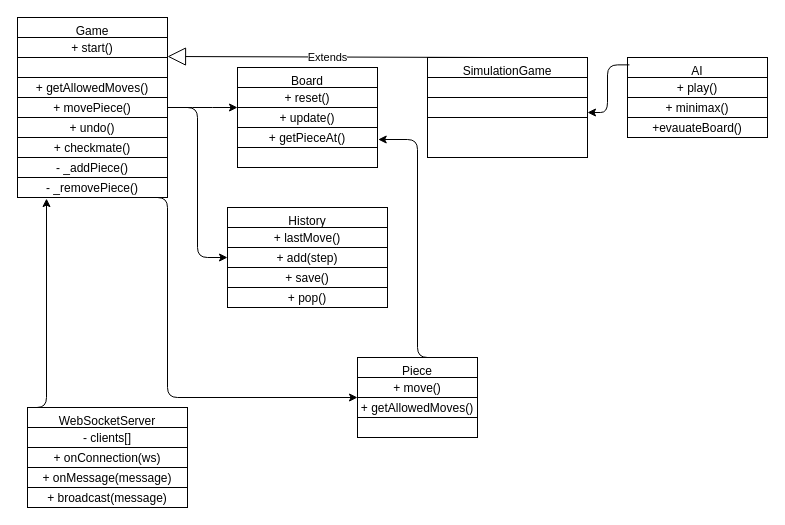
Some shapes in this 785 by 525 pixel diagram are drawn without their labels. Here are the shapes that lost their labels. From the top down, the centre of each, then its label:
the point at 92,67: + king_checked()
the point at 507,87: + simulateMove()
the point at 507,107: + undoSimulateMove()
the point at 307,157: + isOccupied()
